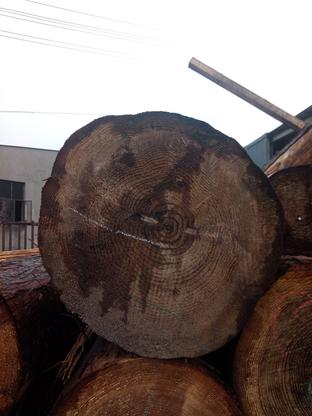mood: (39, 112, 286, 360)
